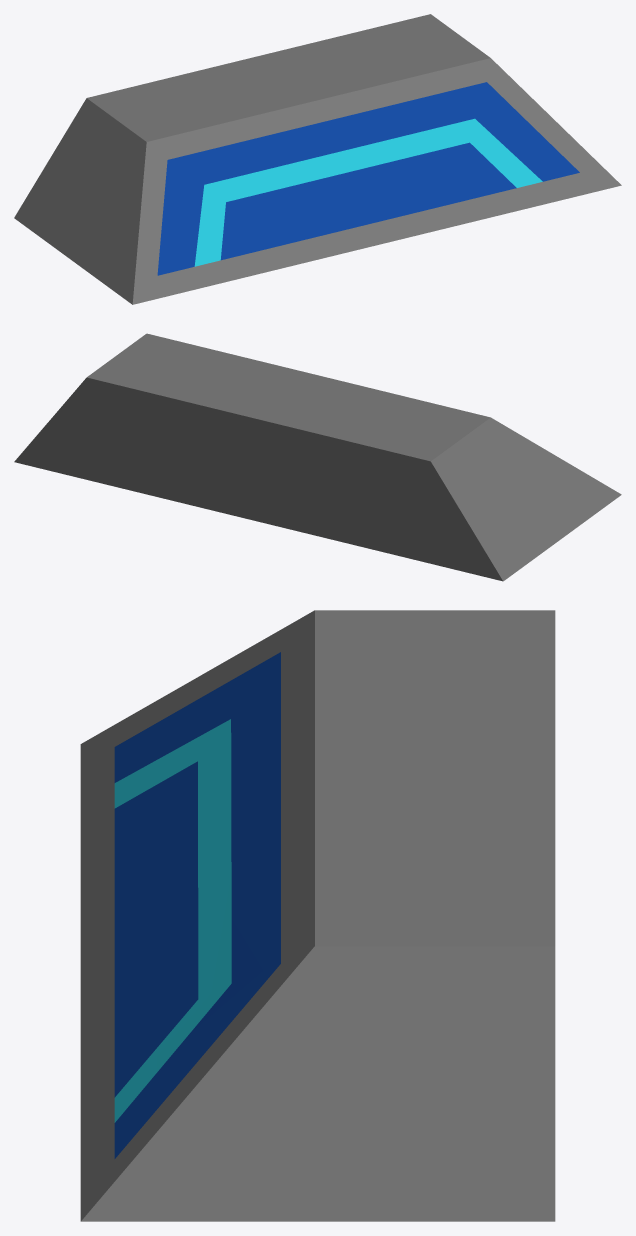
The model's file is space_station_decoration_011.fbx.
The picture shows the model from 3 angles, top to bottom: view 1: azimuth 30°, elevation 25°; view 2: azimuth 150°, elevation 25°; view 3: azimuth 270°, elevation 25°; orthographic projection. The views are drawn at different scales.
Parts seen in each view (by area): view 1: space_station_decoration_011; view 2: space_station_decoration_011; view 3: space_station_decoration_011.
Boxes of the visible parts, x1=… form: space_station_decoration_011: x1=14, y1=14, x2=621, y2=304; space_station_decoration_011: x1=14, y1=333, x2=621, y2=581; space_station_decoration_011: x1=80, y1=610, x2=555, y2=1221.
Bounding box in the file's own units: 155 × 64.87 × 30.88.
